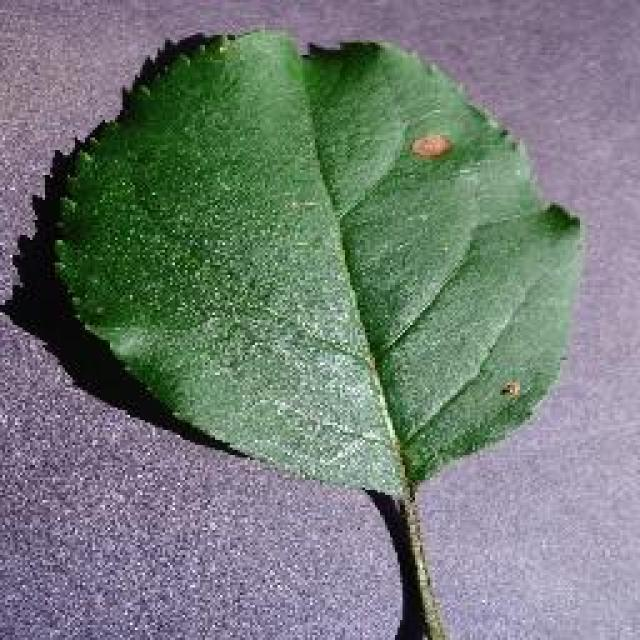Black_rot: (37, 25, 585, 637)
